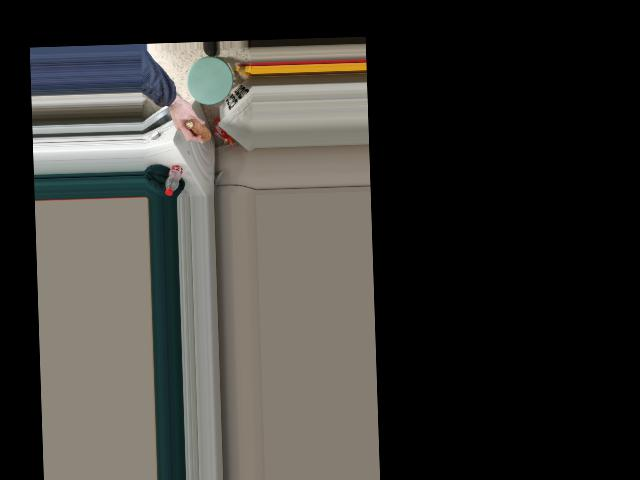sweet_potato: (183, 115, 210, 144)
